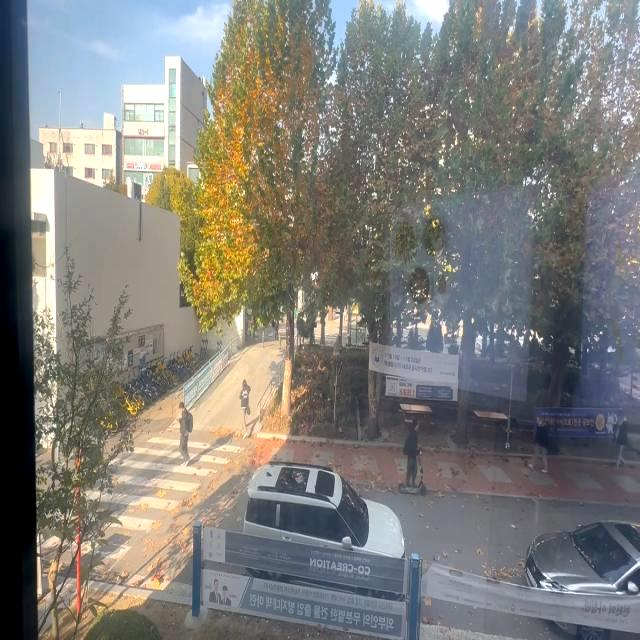bare_head: (407, 414, 424, 433)
human: (401, 413, 419, 487)
kickboard: (394, 477, 439, 497)
